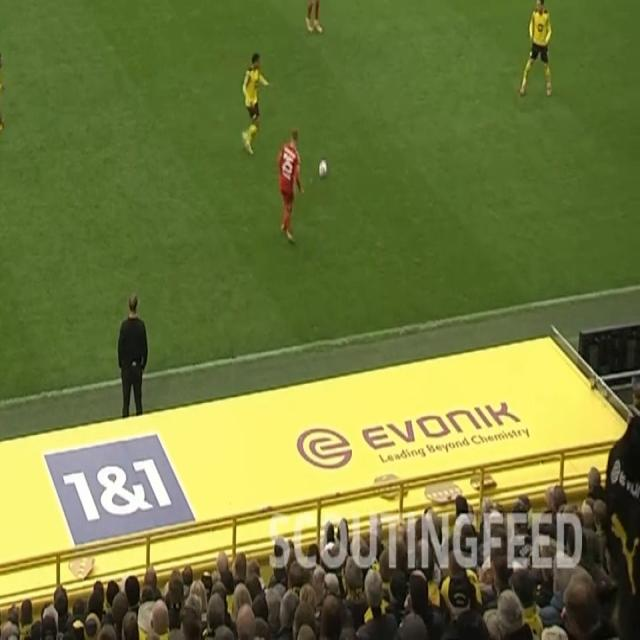ball: (317, 158, 329, 179)
